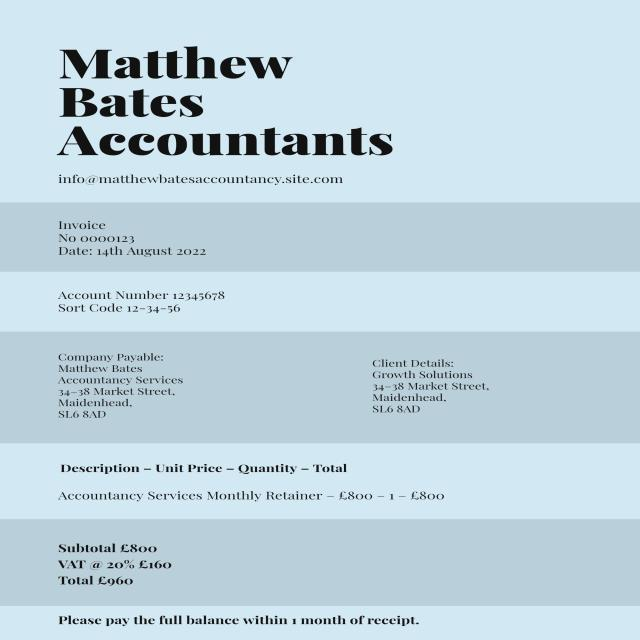ROI: (51, 36, 403, 194), (50, 455, 452, 508), (44, 342, 194, 428), (362, 347, 497, 420), (49, 209, 215, 265), (51, 607, 425, 630), (48, 535, 176, 591), (49, 281, 235, 319)
